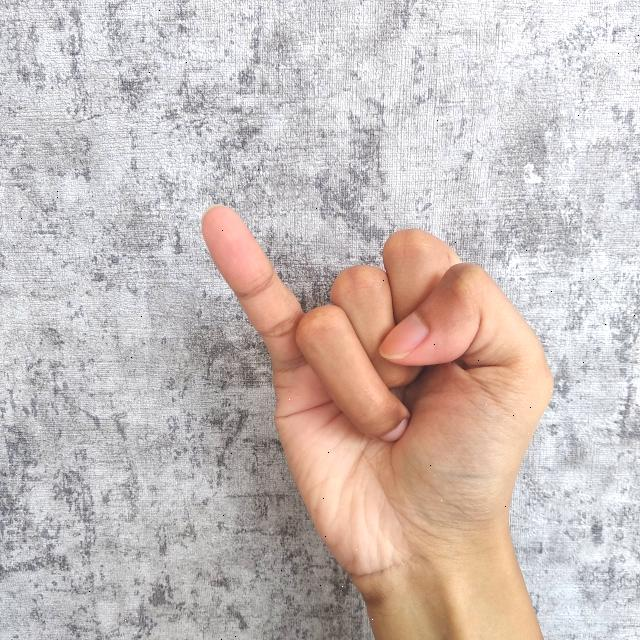I: (196, 190, 587, 640)
